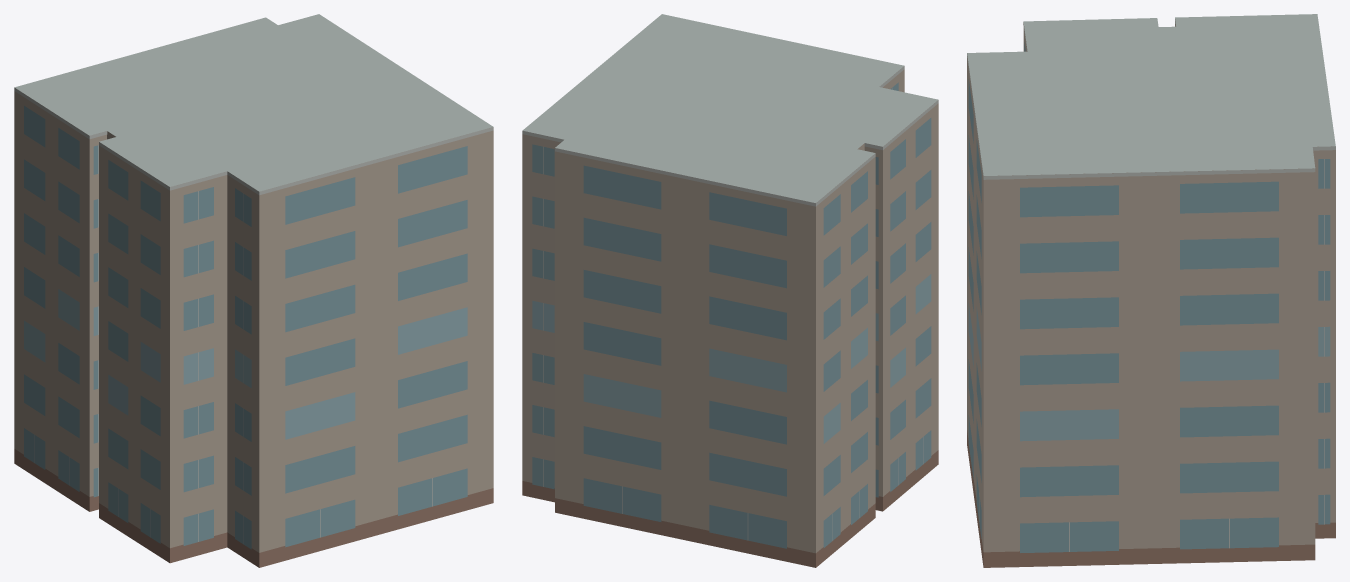
File: survey-upis-32984166.glb
The picture shows the model from 3 angles, left to right: view 1: azimuth 30°, elevation 25°; view 2: azimuth 150°, elevation 25°; view 3: azimuth 270°, elevation 25°; orthographic projection. The views are drawn at different scales.
Visible parts, largest first — view 1: survey-upis-32984166.tmp; view 2: survey-upis-32984166.tmp; view 3: survey-upis-32984166.tmp.
Boxes of the visible parts, <box> form: survey-upis-32984166.tmp: <box>14,14,493,567</box>; survey-upis-32984166.tmp: <box>522,14,938,567</box>; survey-upis-32984166.tmp: <box>967,14,1335,567</box>.
Bounding box in the file's own units: 22.73 × 25.6 × 21.85.
